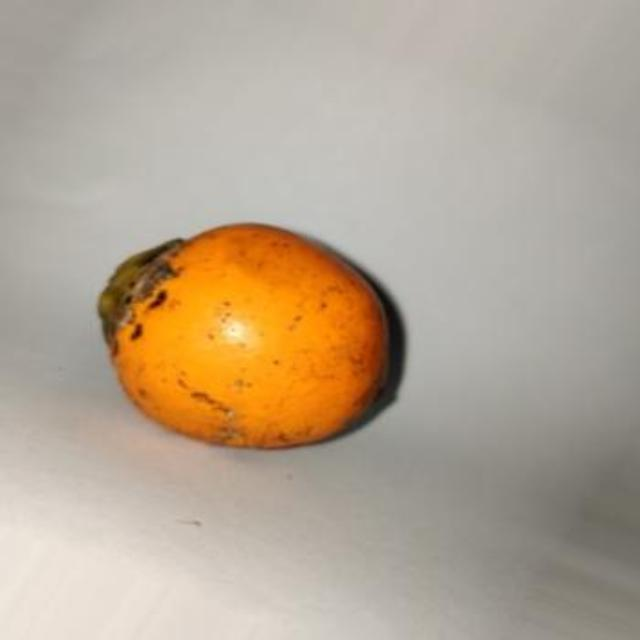good: (97, 223, 406, 452)
